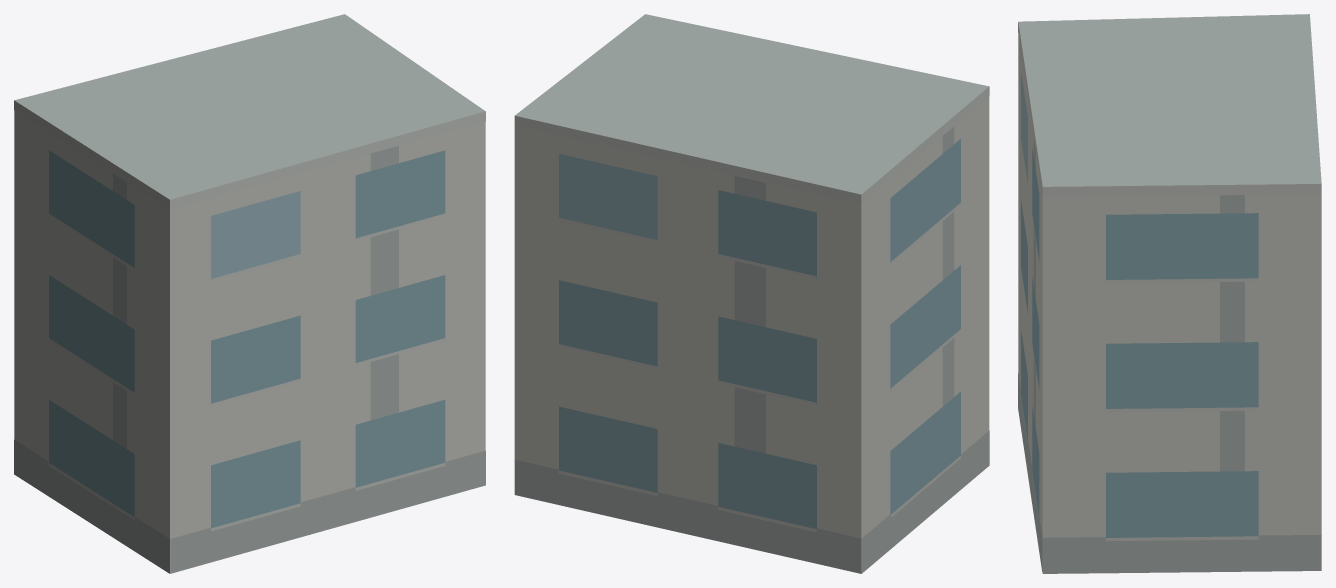
File: survey-upis-32503035.glb
The picture shows the model from 3 angles, left to right: view 1: azimuth 30°, elevation 25°; view 2: azimuth 150°, elevation 25°; view 3: azimuth 270°, elevation 25°; orthographic projection. The views are drawn at different scales.
Parts seen in each view (by area): view 1: survey-upis-32503035.tmp; view 2: survey-upis-32503035.tmp; view 3: survey-upis-32503035.tmp.
Boxes of the visible parts, left/top/right/bottom form: survey-upis-32503035.tmp: left=14, top=14, right=485, bottom=573; survey-upis-32503035.tmp: left=514, top=14, right=989, bottom=573; survey-upis-32503035.tmp: left=1018, top=14, right=1321, bottom=573.
Size of the model in its own units: 8.78 by 9.15 by 6.51.
